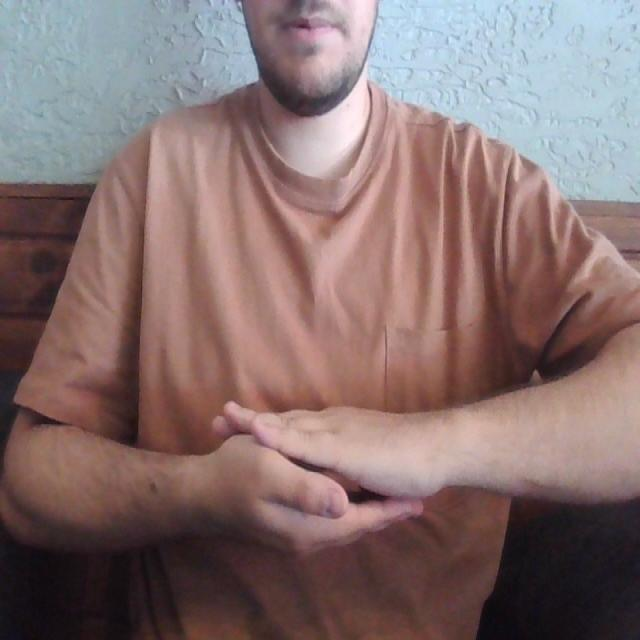Arkadas: (91, 374, 534, 566)
